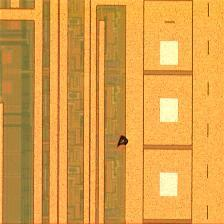PARTICLE: (116, 134, 132, 150)
